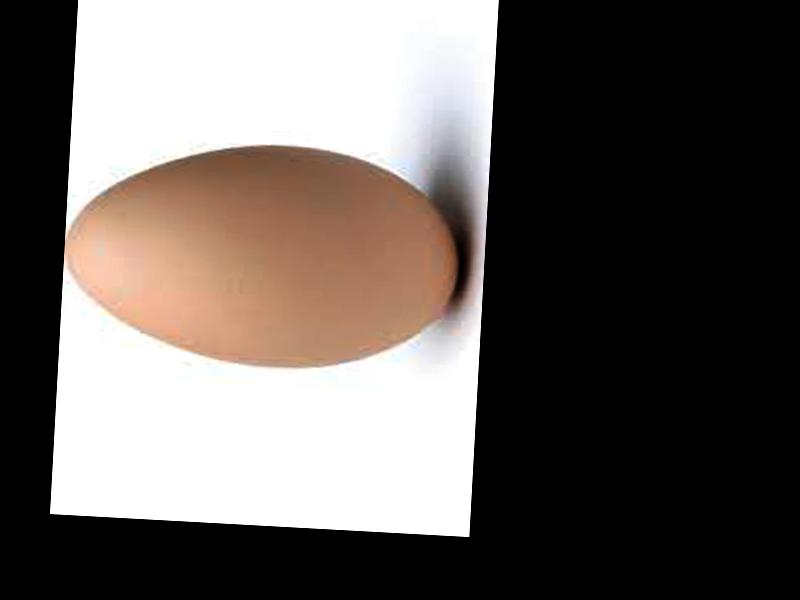Eggs: (61, 134, 470, 377)
